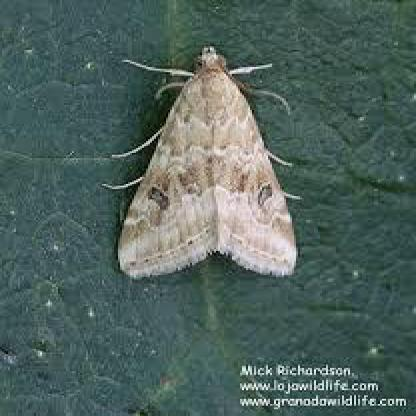Hellula undalis: (97, 36, 305, 280)
